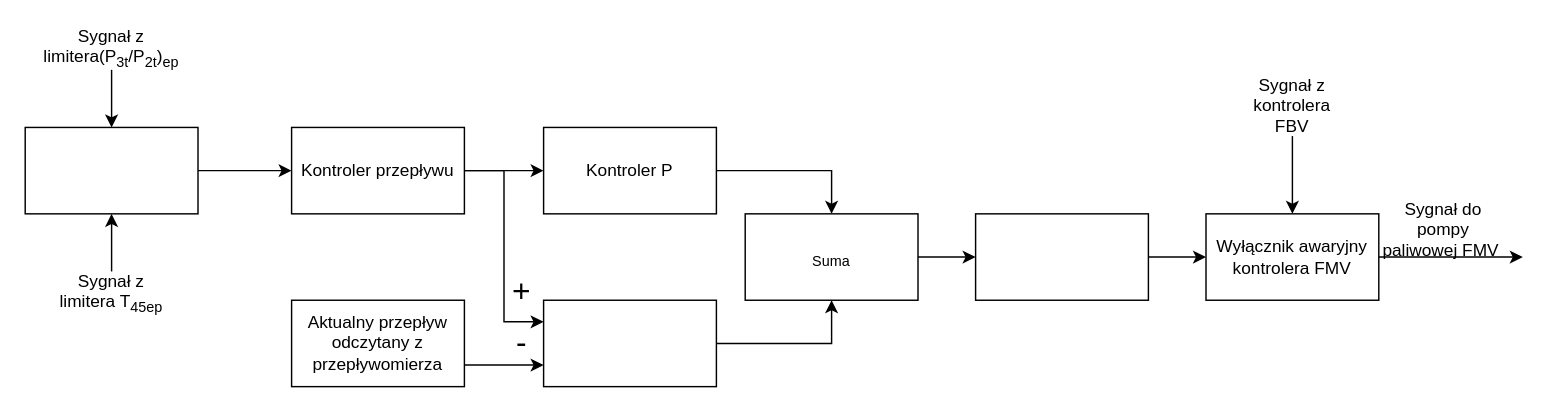
This 1560x412 diagram has some shape labels left out. Here are the shapes that lost their labels. From the top down, the box of each, then its label:
(24, 126, 198, 214): Selektor limitera
(974, 212, 1148, 300): Średnia 10 ostatnich pomiarów
(542, 299, 716, 387): Kontroler I
